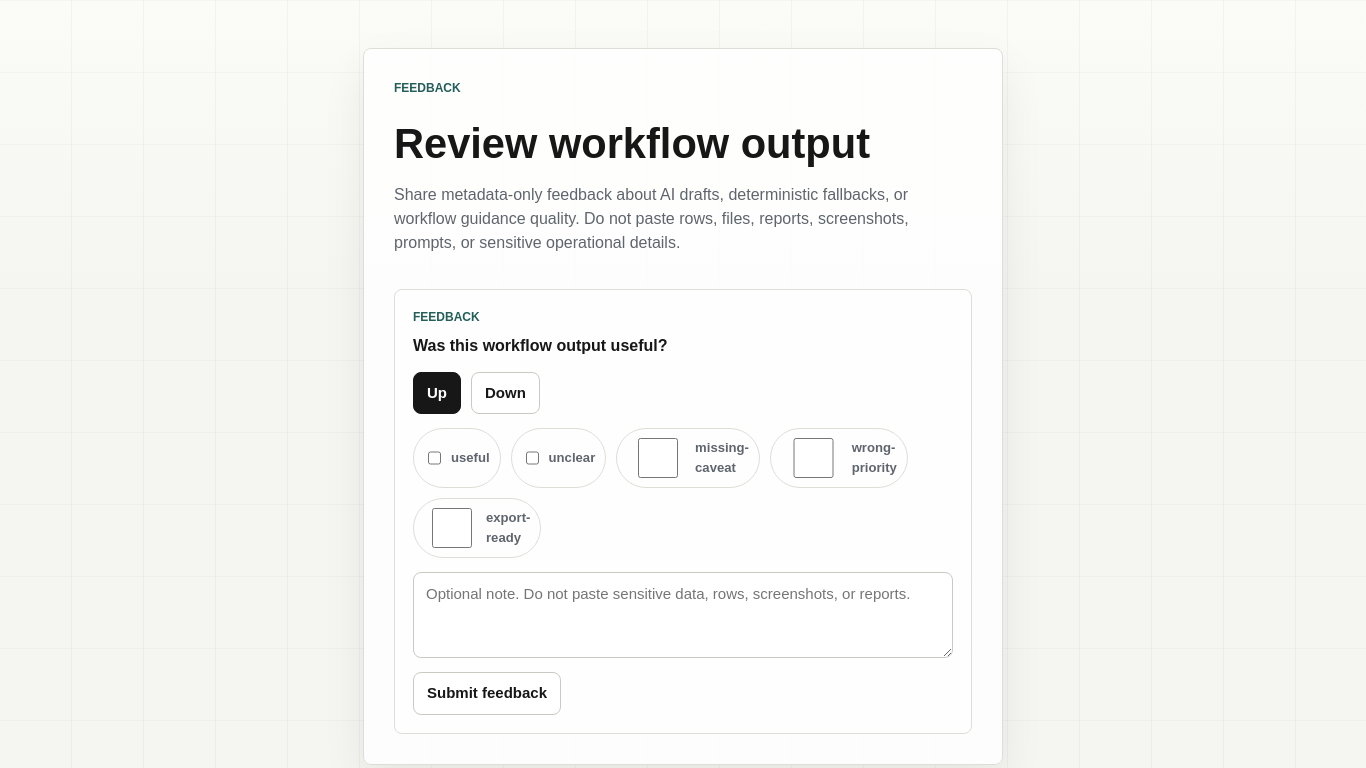
Test: staging-facing secondary pages with local mocks › submits feedback as bounded metadata only
The image size is (1366, 768).
Check: the heading "Review workflow output" is shown, box [394,120,870,167]
Check: the text "metadata-only feedback" is shown, box [394,186,909,251]
Step 1. Click the checkbox labelled "useful" → point(434, 458), box [428,438,441,478]
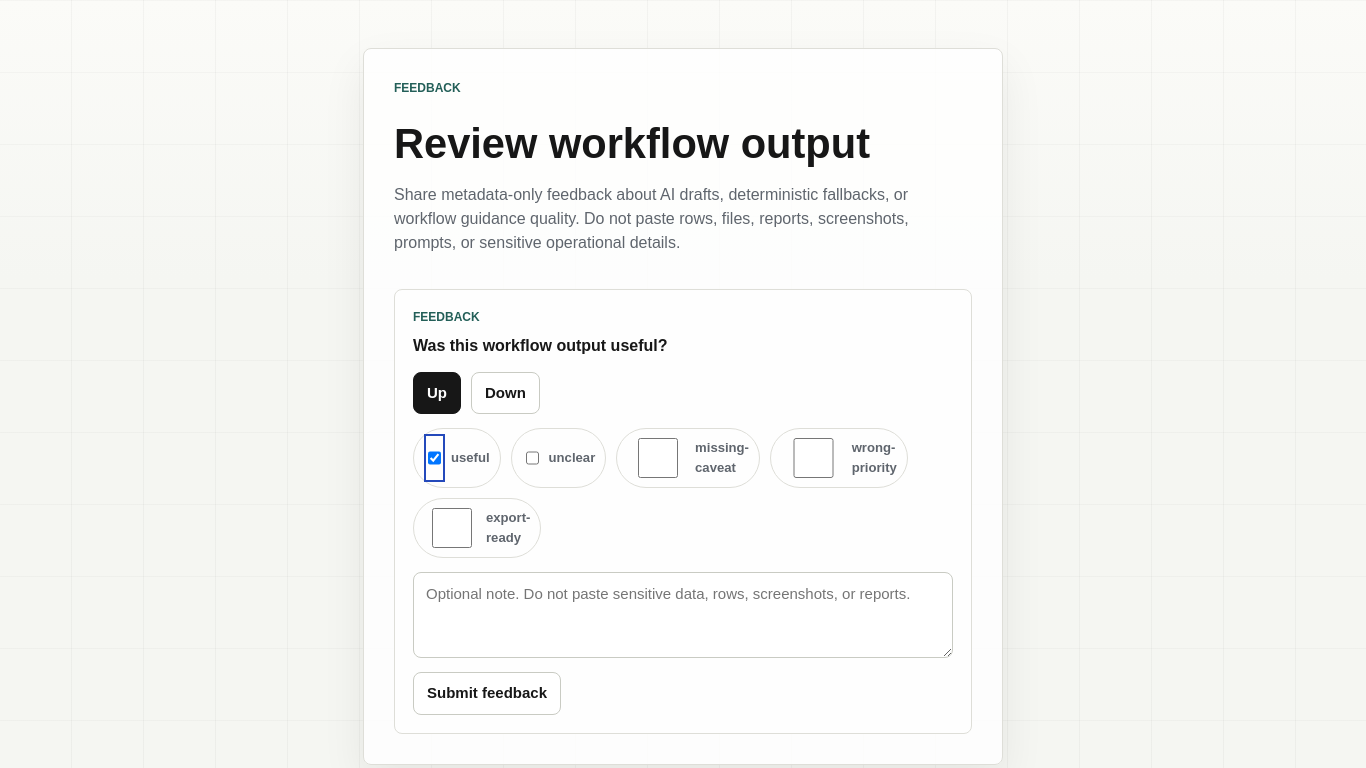
Step 2. Click the button "Submit feedback" → point(487, 693), box [413,672,561,715]
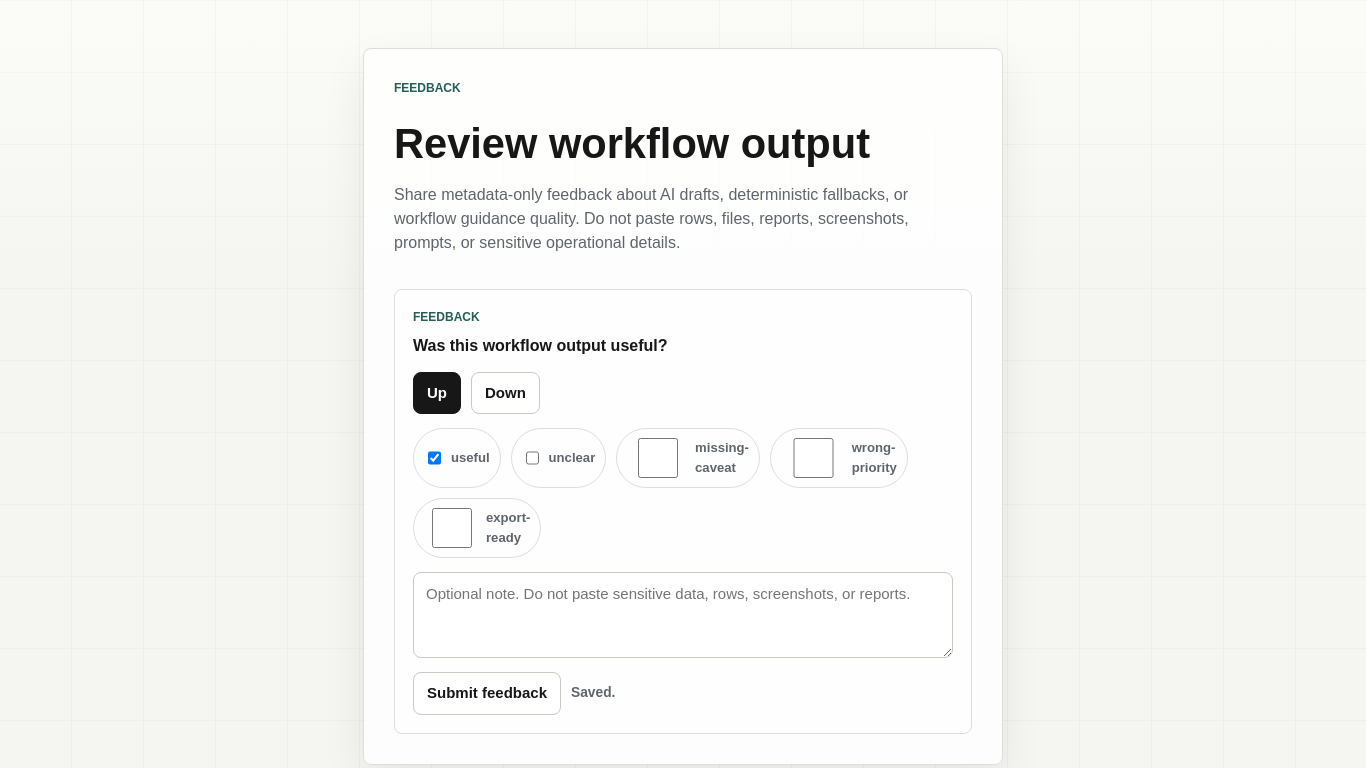
Check: the text "Saved." is shown, box [571,683,615,704]
